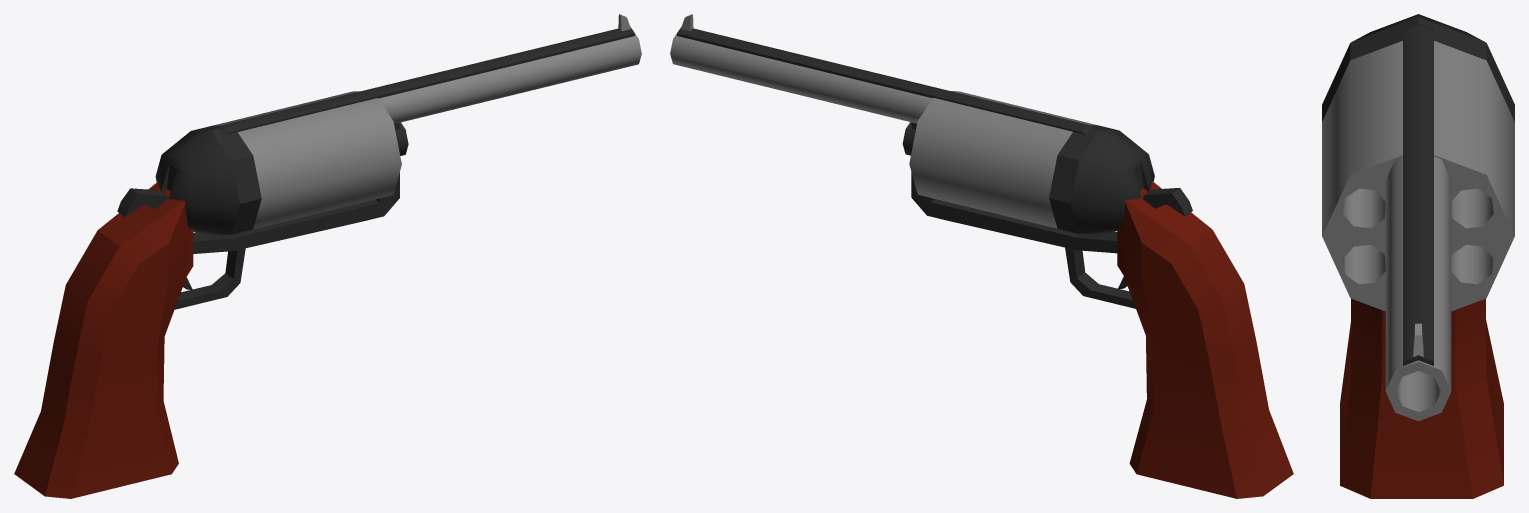
File: Peashooter.1.fbx
3 renders of one model, left to right at view 1: azimuth 30°, elevation 25°; view 2: azimuth 150°, elevation 25°; view 3: azimuth 270°, elevation 25°, orthographic. The views are drawn at different scales.
Visible parts, largest first — view 1: grip, cylinder, Back of gun, Barrel, support bar 2, support bar1, Trigger Gaurd, hammer1; view 2: grip, cylinder, Back of gun, Barrel, support bar 2, support bar1, Trigger Gaurd, hammer1; view 3: cylinder, grip, Barrel, support bar 2, Back of gun, Box008.
Part boxes in pixels (<box>): grip: <box>14,181,193,498</box>; cylinder: <box>213,91,401,229</box>; Back of gun: <box>155,125,261,234</box>; Barrel: <box>378,29,641,123</box>; support bar 2: <box>215,27,634,135</box>; support bar1: <box>193,123,399,253</box>; Trigger Gaurd: <box>174,248,245,309</box>; hammer1: <box>117,188,167,217</box>; grip: <box>1117,181,1293,498</box>; cylinder: <box>909,91,1096,228</box>; Back of gun: <box>1049,125,1154,234</box>; Barrel: <box>670,32,932,123</box>; support bar 2: <box>677,27,1095,134</box>; support bar1: <box>911,122,1117,253</box>; Trigger Gaurd: <box>1065,247,1135,308</box>; hammer1: <box>1143,187,1192,216</box>; cylinder: <box>1322,41,1514,311</box>; grip: <box>1340,298,1503,498</box>; Barrel: <box>1385,156,1451,421</box>; support bar 2: <box>1403,23,1433,365</box>; Back of gun: <box>1322,14,1514,121</box>; Box008: <box>1413,323,1423,356</box>.
Bounding box in the file's own units: 10.79 × 5.61 × 1.79.
